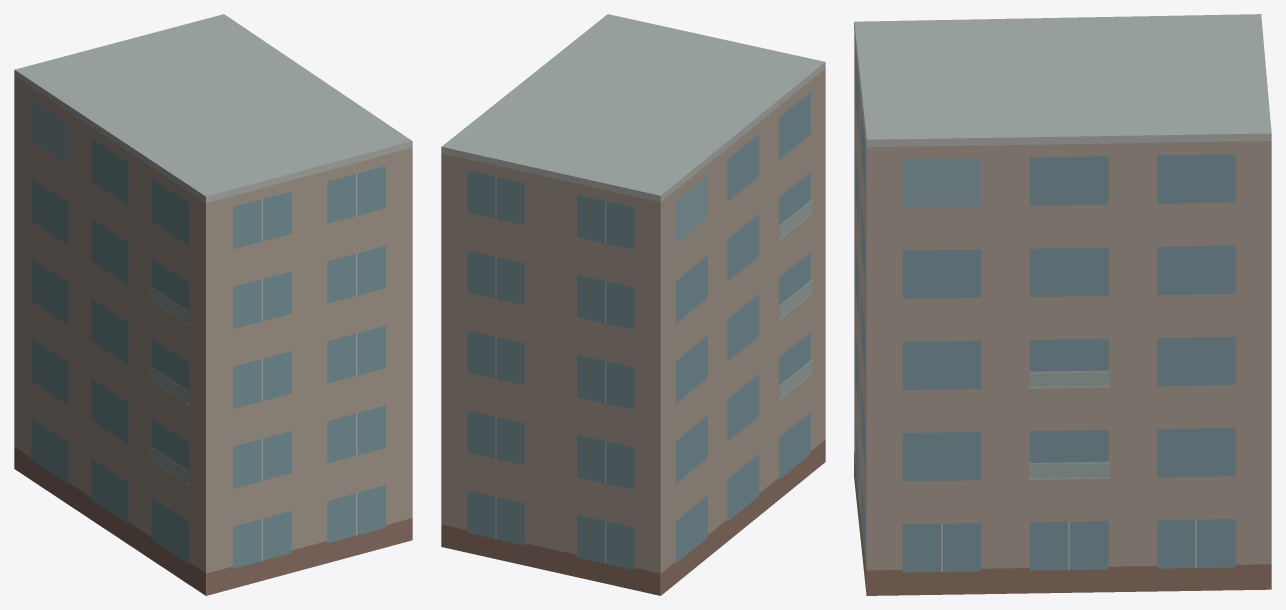
The model's file is survey-upis-32532272.glb.
3 views of the same model, side by side, from view 1: azimuth 30°, elevation 25°; view 2: azimuth 150°, elevation 25°; view 3: azimuth 270°, elevation 25° (orthographic). The views are drawn at different scales.
Visible parts, largest first — view 1: survey-upis-32532272.tmp; view 2: survey-upis-32532272.tmp; view 3: survey-upis-32532272.tmp.
Part boxes in pixels (x1=…): survey-upis-32532272.tmp: x1=14, y1=14, x2=412, y2=595; survey-upis-32532272.tmp: x1=441, y1=14, x2=825, y2=595; survey-upis-32532272.tmp: x1=854, y1=14, x2=1271, y2=595.
Bounding box in the file's own units: 8.75 × 14.79 × 12.28.
